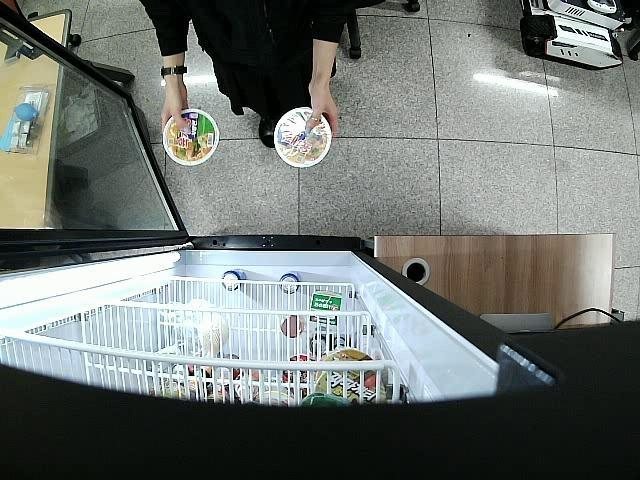09_yukGaeJang: (274, 109, 333, 168), (162, 109, 220, 166)
